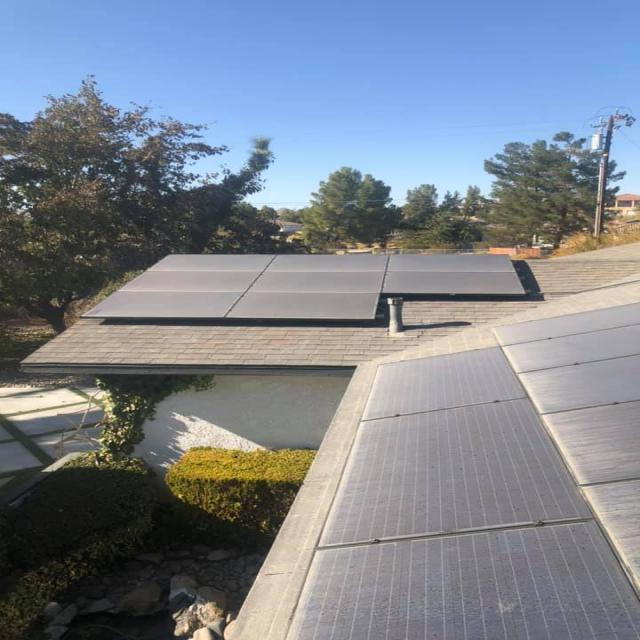dust-solar-panel: (296, 301, 640, 640), (84, 251, 525, 320)
